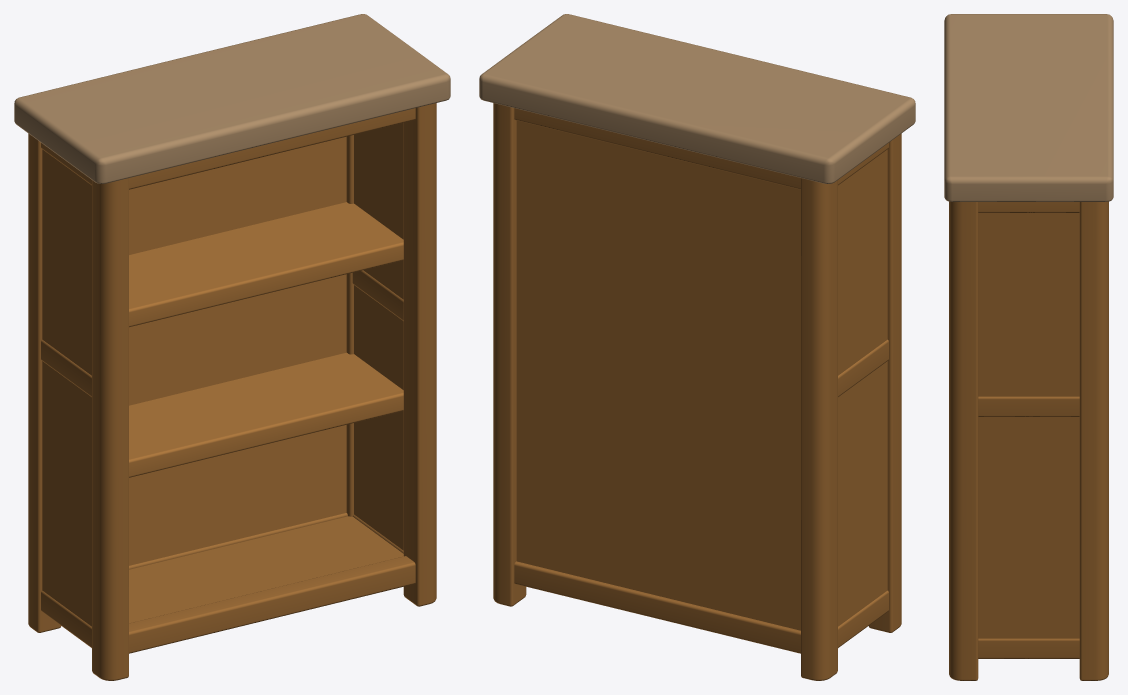
File: SM_Shelf_Wood_04_Base.fbx
The picture shows the model from 3 angles, left to right: view 1: azimuth 30°, elevation 25°; view 2: azimuth 150°, elevation 25°; view 3: azimuth 270°, elevation 25°; orthographic projection. The views are drawn at different scales.
Visible parts, largest first — view 1: Cube.024, Cube.028, Cube.025, Cube.026, Cube.029; view 2: Cube.028, Cube.024, Cube.026, Cube.025; view 3: Cube.025, Cube.024, Cube.026.
Part boxes in pixels (x1,y1,x2,y2): Cube.024: (28,103,436,680); Cube.028: (129,136,346,565); Cube.025: (42,123,403,626); Cube.026: (14,14,450,183); Cube.029: (129,202,403,477); Cube.028: (516,120,800,630); Cube.024: (493,103,901,680); Cube.026: (479,14,915,183); Cube.025: (838,149,887,626); Cube.025: (978,213,1079,638); Cube.024: (949,201,1108,680); Cube.026: (944,14,1113,201).
Size of the model in its own units: 148 by 210 by 63.49.
